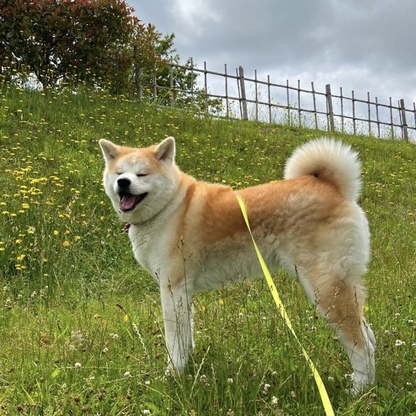akita: (95, 128, 383, 400)
